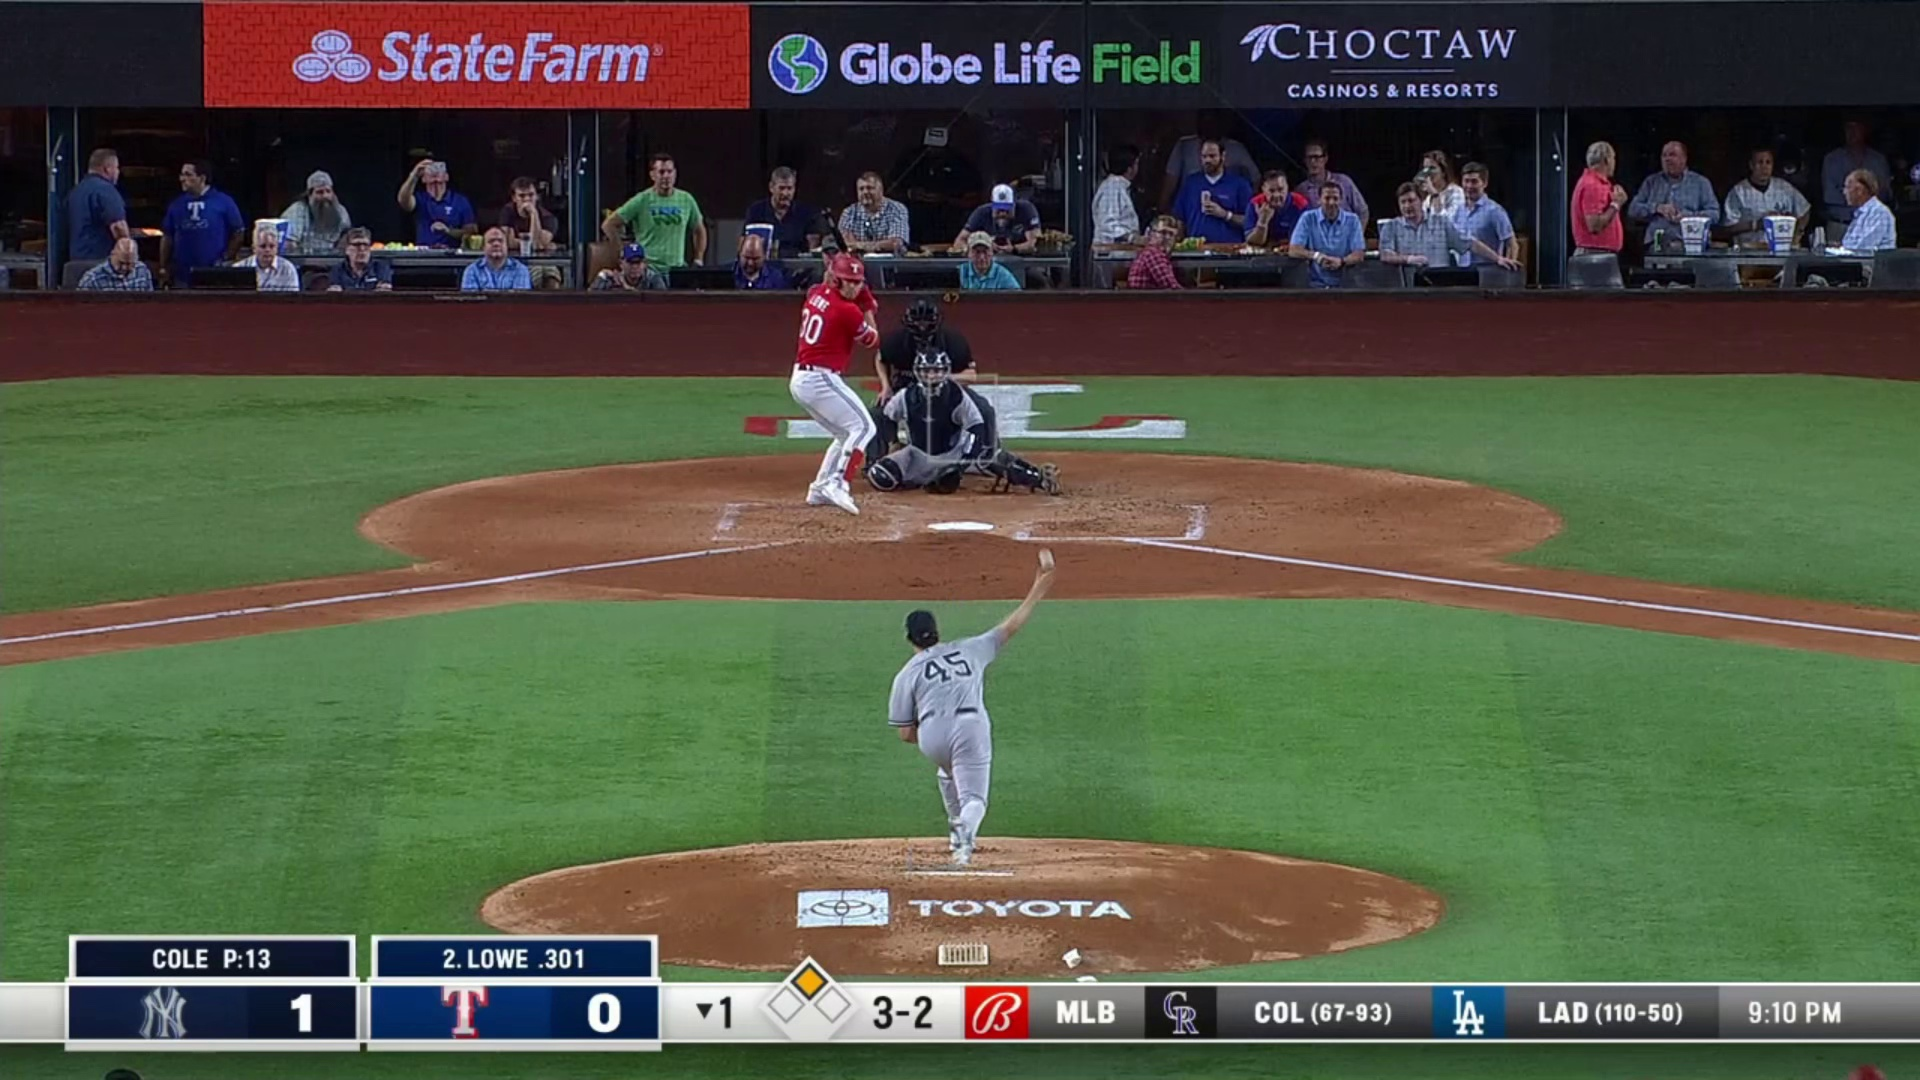baseball: (1035, 547, 1055, 570)
